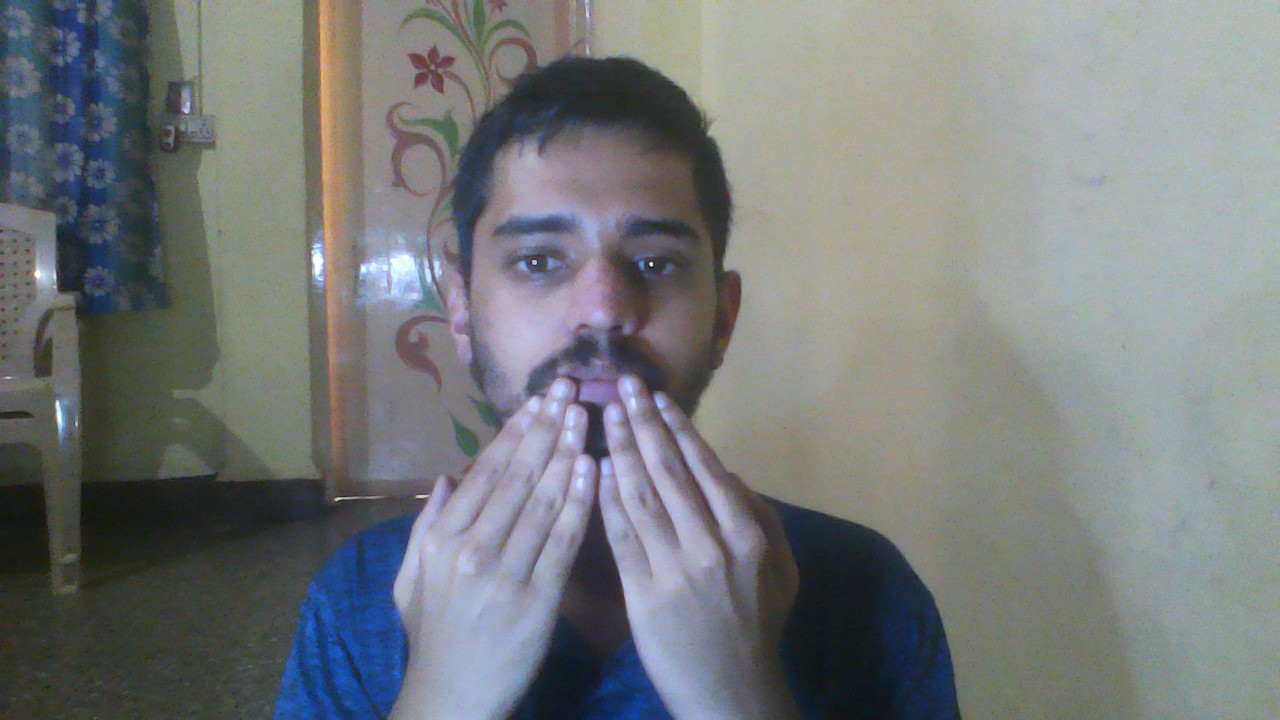thanks: (376, 339, 880, 720)
